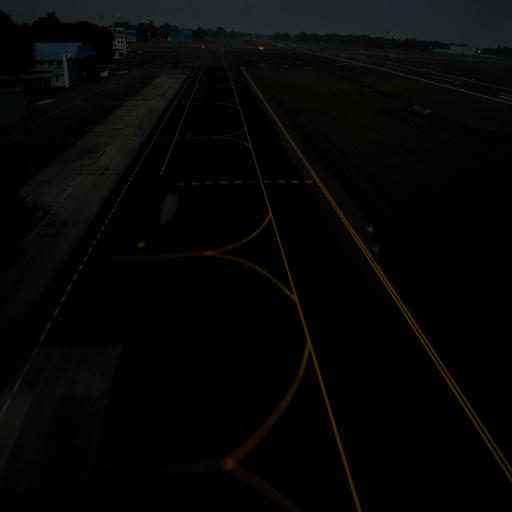on: (369, 221, 374, 230)
